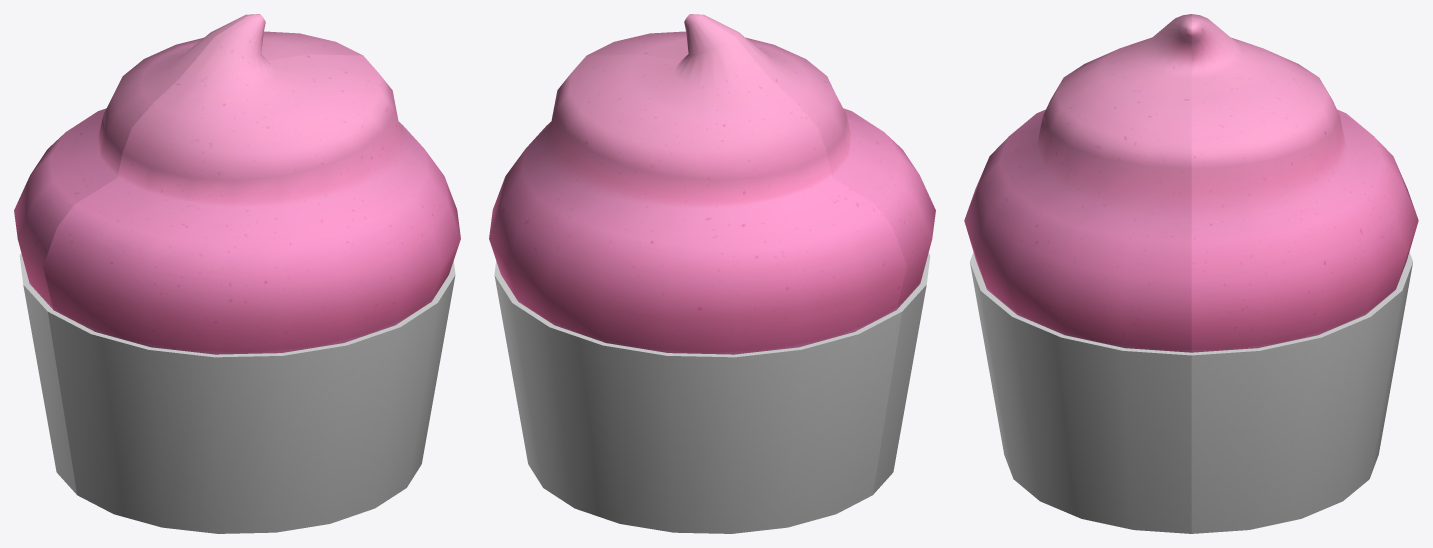
File: Frozen Yogurt.fbx
3 renders of one model, left to right at view 1: azimuth 30°, elevation 25°; view 2: azimuth 150°, elevation 25°; view 3: azimuth 270°, elevation 25°, orthographic.
Parts seen in each view (by area): view 1: FrozenYogurt_1; view 2: FrozenYogurt_1; view 3: FrozenYogurt_1.
Part boxes in pixels (x1,y1,x2,y2): FrozenYogurt_1: (14, 14, 460, 533); FrozenYogurt_1: (489, 14, 935, 533); FrozenYogurt_1: (964, 14, 1418, 533).
Bounding box in the file's own units: 43.77 × 47.05 × 43.79.
Materials: 1 (1 with a texture image).
